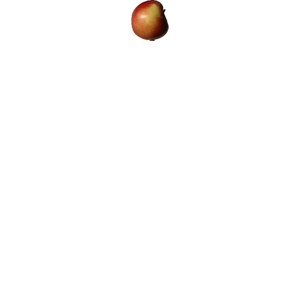maçã braeburn: (128, 1, 172, 41)
